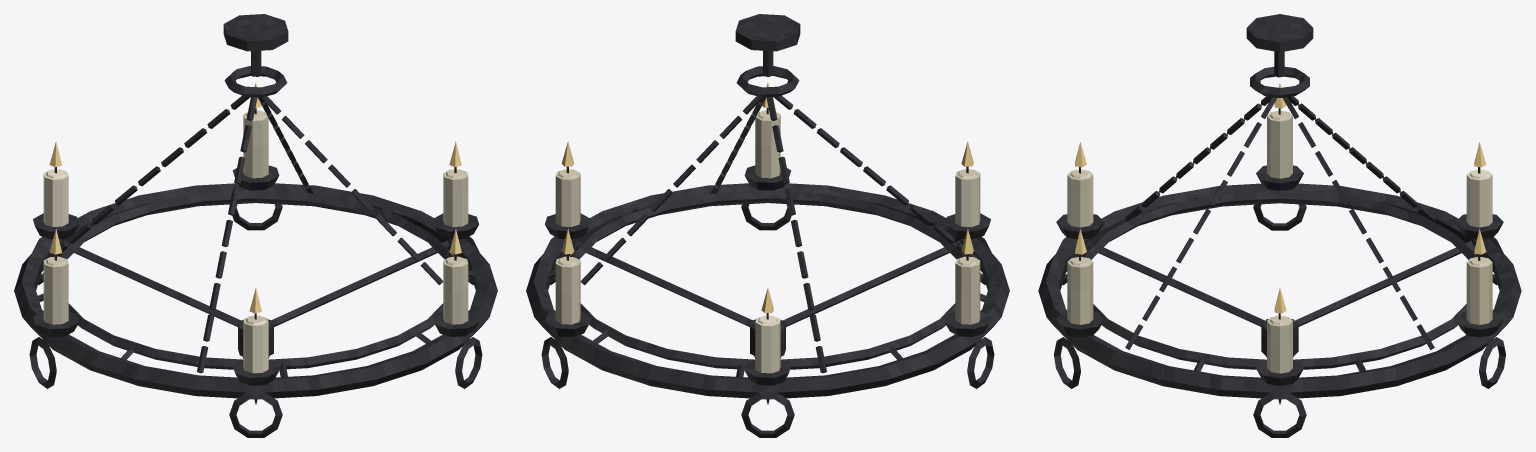
File: castle_chandelier.obj
The picture shows the model from 3 angles, left to right: view 1: azimuth 30°, elevation 25°; view 2: azimuth 150°, elevation 25°; view 3: azimuth 270°, elevation 25°; orthographic projection.
Visible parts, largest first — view 1: castle_chandelier; view 2: castle_chandelier; view 3: castle_chandelier.
Part boxes in pixels (box(x1,y1,x2,y2)): castle_chandelier: box(14, 14, 497, 437); castle_chandelier: box(526, 14, 1009, 437); castle_chandelier: box(1038, 14, 1521, 437).
Size of the model in its own units: 1.37 by 1.12 by 1.3.
